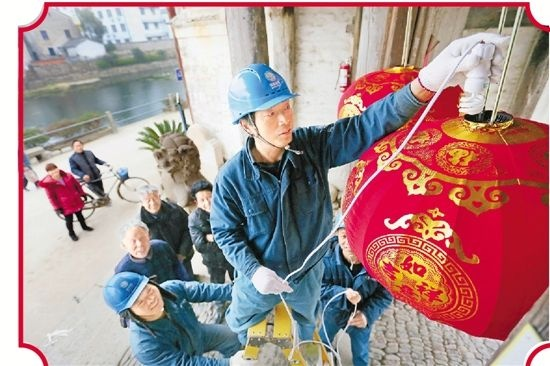blue: (225, 62, 296, 153), (105, 267, 164, 327)
none: (118, 217, 151, 259), (136, 182, 161, 214), (192, 180, 213, 214), (45, 160, 58, 177), (71, 139, 83, 152)
